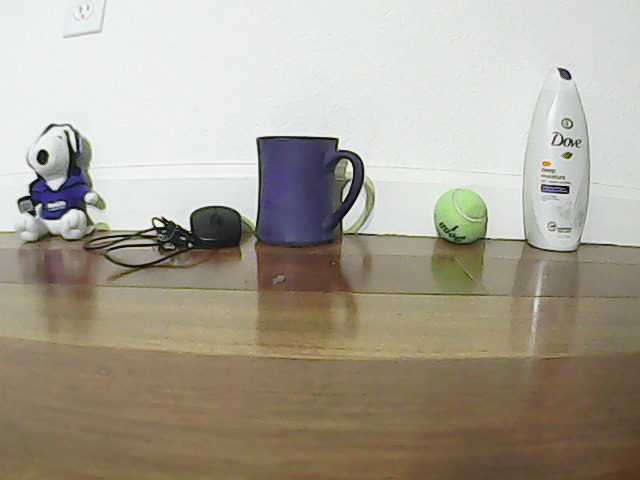ball: (437, 190, 490, 247)
mouse: (176, 200, 244, 256)
mug: (253, 133, 367, 245)
snoopy: (18, 117, 94, 244)
soap: (532, 57, 593, 255)
